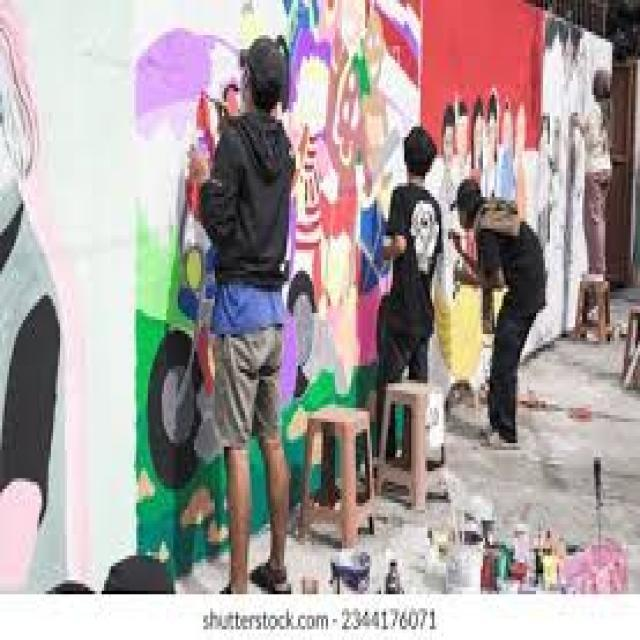-: (130, 0, 426, 566), (0, 0, 88, 594), (420, 1, 540, 227)
